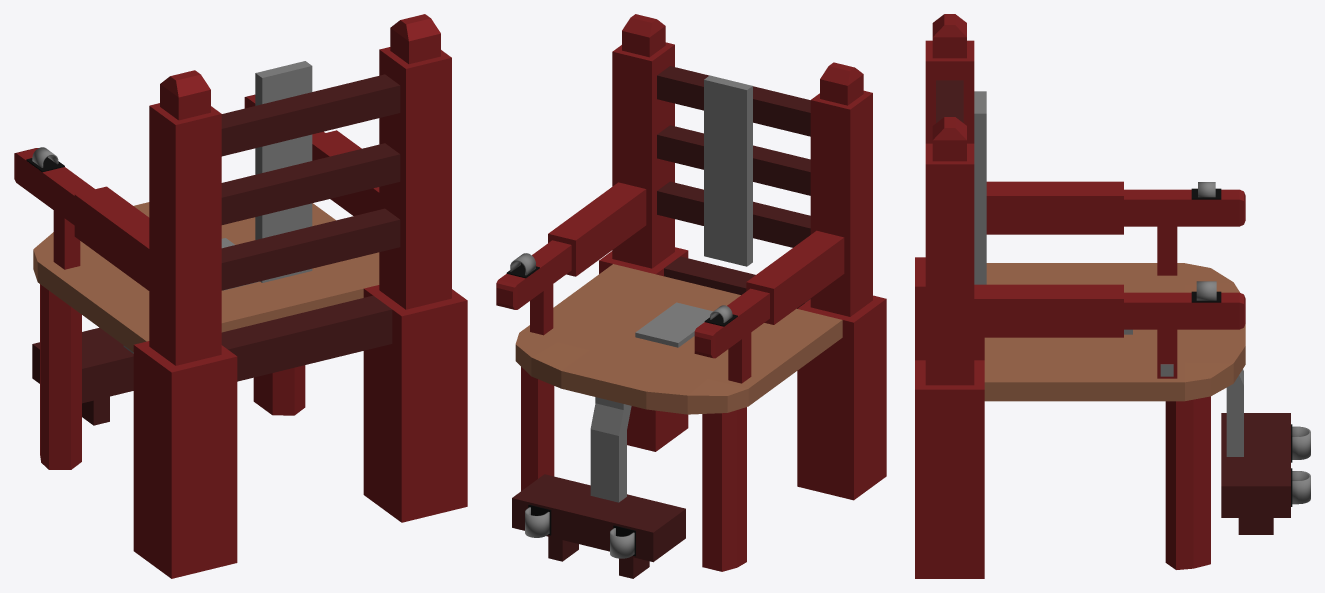
The model's file is Dungeon_TortureChair.glb.
3 views of the same model, side by side, from view 1: azimuth 30°, elevation 25°; view 2: azimuth 150°, elevation 25°; view 3: azimuth 270°, elevation 25° (orthographic). The views are drawn at different scales.
Parts seen in each view (by area): view 1: TortureChair; view 2: TortureChair; view 3: TortureChair.
Boxes of the visible parts, x1=… form: TortureChair: x1=14, y1=14, x2=467, y2=578; TortureChair: x1=496, y1=14, x2=886, y2=578; TortureChair: x1=915, y1=14, x2=1310, y2=578.
Size of the model in its own units: 0.9 by 1.4 by 1.14.
